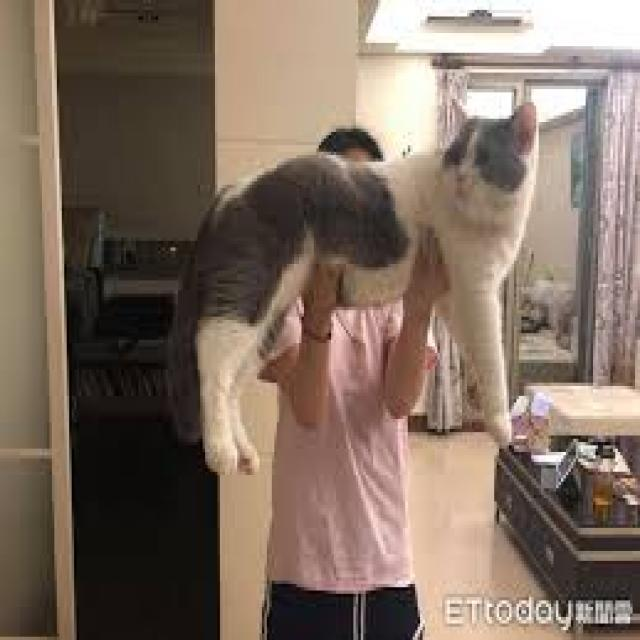cat: (231, 102, 595, 354)
